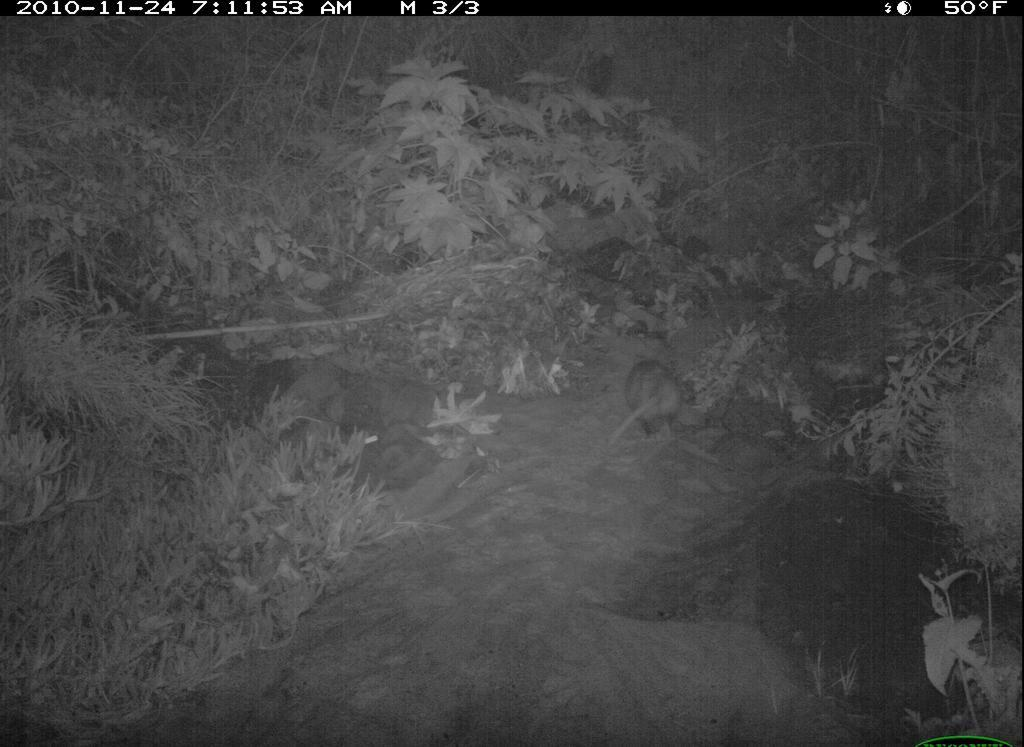opossum: (600, 342, 722, 457)
